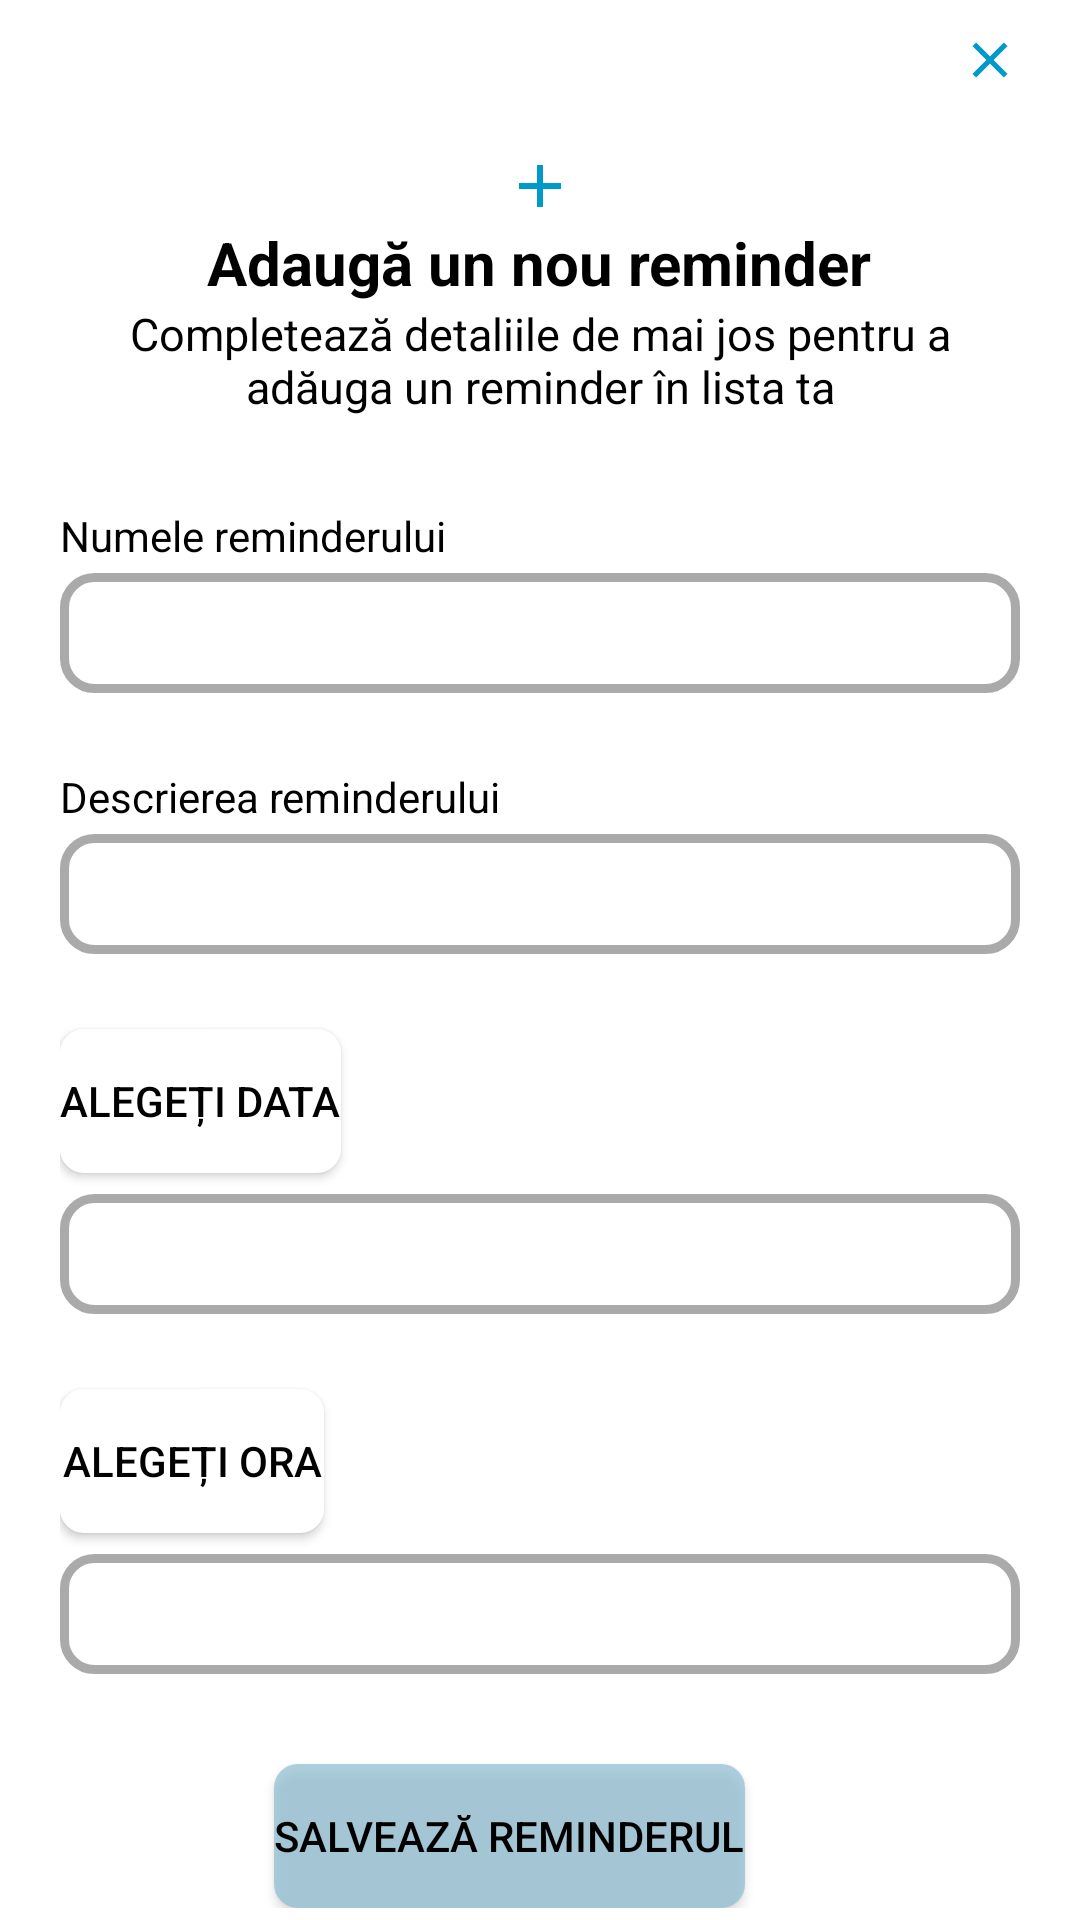

Icons on this 1080 x 1920 Android screen, each with its box as (x1, y1, x2, y2):
add: (519, 165, 561, 207)
close: (972, 42, 1008, 78)
